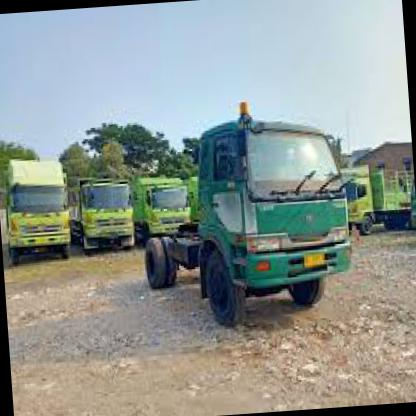truck: (188, 108, 359, 334)
